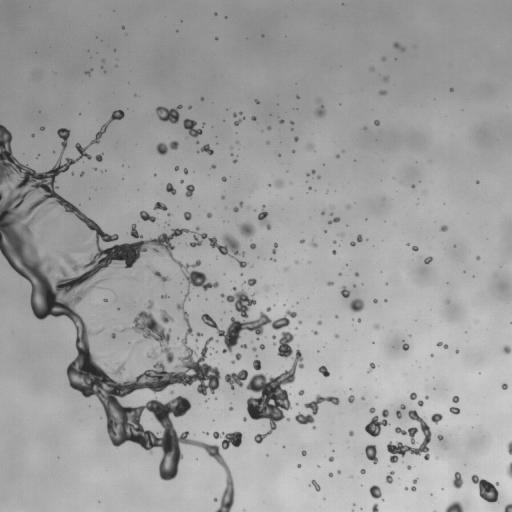droplet: (201, 287, 296, 353), (387, 410, 431, 463), (471, 474, 498, 502), (224, 369, 248, 390), (156, 105, 182, 123), (277, 331, 294, 358), (183, 118, 202, 137), (238, 222, 255, 238), (365, 444, 377, 464), (349, 299, 364, 312), (444, 501, 463, 511), (369, 485, 382, 499), (452, 472, 463, 488), (198, 144, 213, 154), (318, 365, 329, 376), (315, 105, 325, 117), (430, 413, 442, 423), (185, 184, 194, 197), (153, 202, 167, 210), (166, 183, 176, 194), (340, 286, 350, 297), (243, 278, 256, 286), (311, 480, 320, 491), (253, 359, 261, 370), (274, 179, 283, 188), (367, 362, 375, 372), (449, 407, 460, 414), (502, 345, 511, 353), (504, 502, 511, 511), (95, 153, 102, 161), (184, 212, 191, 220), (424, 256, 432, 263), (402, 342, 409, 350), (409, 392, 416, 399), (452, 395, 459, 402), (348, 395, 354, 403), (372, 503, 378, 511), (440, 225, 447, 231), (235, 353, 241, 360), (501, 382, 507, 389), (311, 241, 317, 247), (369, 407, 375, 413), (437, 434, 443, 440), (85, 70, 92, 75), (379, 90, 386, 95), (250, 242, 255, 249), (161, 293, 168, 298), (307, 144, 312, 150), (412, 246, 418, 251), (373, 324, 379, 329), (196, 332, 202, 337), (298, 390, 304, 395), (418, 400, 423, 406), (328, 456, 334, 461), (383, 76, 388, 81), (374, 120, 379, 125), (110, 333, 115, 338), (259, 344, 264, 349), (301, 450, 306, 455), (360, 469, 365, 474), (327, 281, 333, 285), (241, 344, 247, 348), (349, 430, 353, 436), (251, 116, 256, 120), (294, 136, 298, 141), (174, 166, 179, 170), (183, 169, 187, 174), (233, 207, 238, 211), (207, 212, 211, 217), (229, 405, 233, 410), (255, 99, 259, 103), (279, 119, 283, 123), (40, 126, 44, 130), (211, 164, 215, 168), (222, 177, 226, 181), (300, 239, 304, 243), (332, 250, 336, 254), (373, 299, 377, 303), (266, 307, 270, 311), (357, 318, 361, 322), (313, 330, 317, 334), (252, 347, 256, 351), (407, 465, 411, 469), (317, 98, 320, 103), (239, 201, 242, 206), (339, 233, 344, 236), (233, 159, 236, 163), (271, 258, 275, 261), (318, 320, 321, 324), (455, 349, 458, 353), (243, 417, 247, 420), (214, 497, 217, 501), (382, 57, 385, 60), (296, 95, 299, 98), (233, 113, 236, 116), (290, 121, 293, 124), (80, 172, 83, 175), (476, 256, 479, 259), (355, 273, 358, 276), (446, 300, 449, 303), (272, 335, 275, 338), (335, 334, 338, 337), (231, 360, 234, 363), (425, 396, 428, 399), (297, 464, 300, 467), (329, 473, 332, 476), (404, 487, 407, 490), (371, 67, 373, 70), (450, 88, 452, 91), (201, 97, 203, 100), (188, 106, 191, 108), (267, 127, 270, 129), (363, 127, 366, 129), (31, 134, 34, 136), (336, 155, 339, 157), (317, 176, 320, 178), (180, 180, 183, 182), (221, 196, 224, 198), (167, 213, 170, 215), (321, 212, 324, 214), (333, 240, 335, 243), (335, 315, 337, 318), (298, 321, 301, 323), (430, 354, 433, 356), (170, 391, 173, 393), (337, 471, 340, 473), (240, 112, 242, 114), (293, 150, 295, 152), (153, 174, 155, 176), (412, 185, 414, 187), (309, 187, 311, 189), (347, 205, 349, 207), (324, 230, 326, 232), (104, 299, 106, 301), (273, 342, 275, 344), (362, 397, 364, 399), (313, 426, 315, 428), (205, 432, 207, 434)
ligament: (0, 110, 244, 511), (246, 349, 303, 443), (295, 394, 339, 424), (364, 409, 388, 437), (147, 264, 171, 285), (156, 141, 178, 154), (258, 206, 270, 229), (139, 210, 156, 222), (350, 234, 362, 246), (396, 404, 405, 418), (393, 42, 405, 51), (386, 470, 394, 483), (328, 217, 340, 224), (234, 117, 244, 125), (506, 462, 511, 478), (411, 478, 417, 491), (437, 342, 447, 348), (307, 169, 315, 176), (507, 441, 511, 454), (272, 243, 277, 253), (121, 327, 128, 331), (0, 192, 2, 199)
